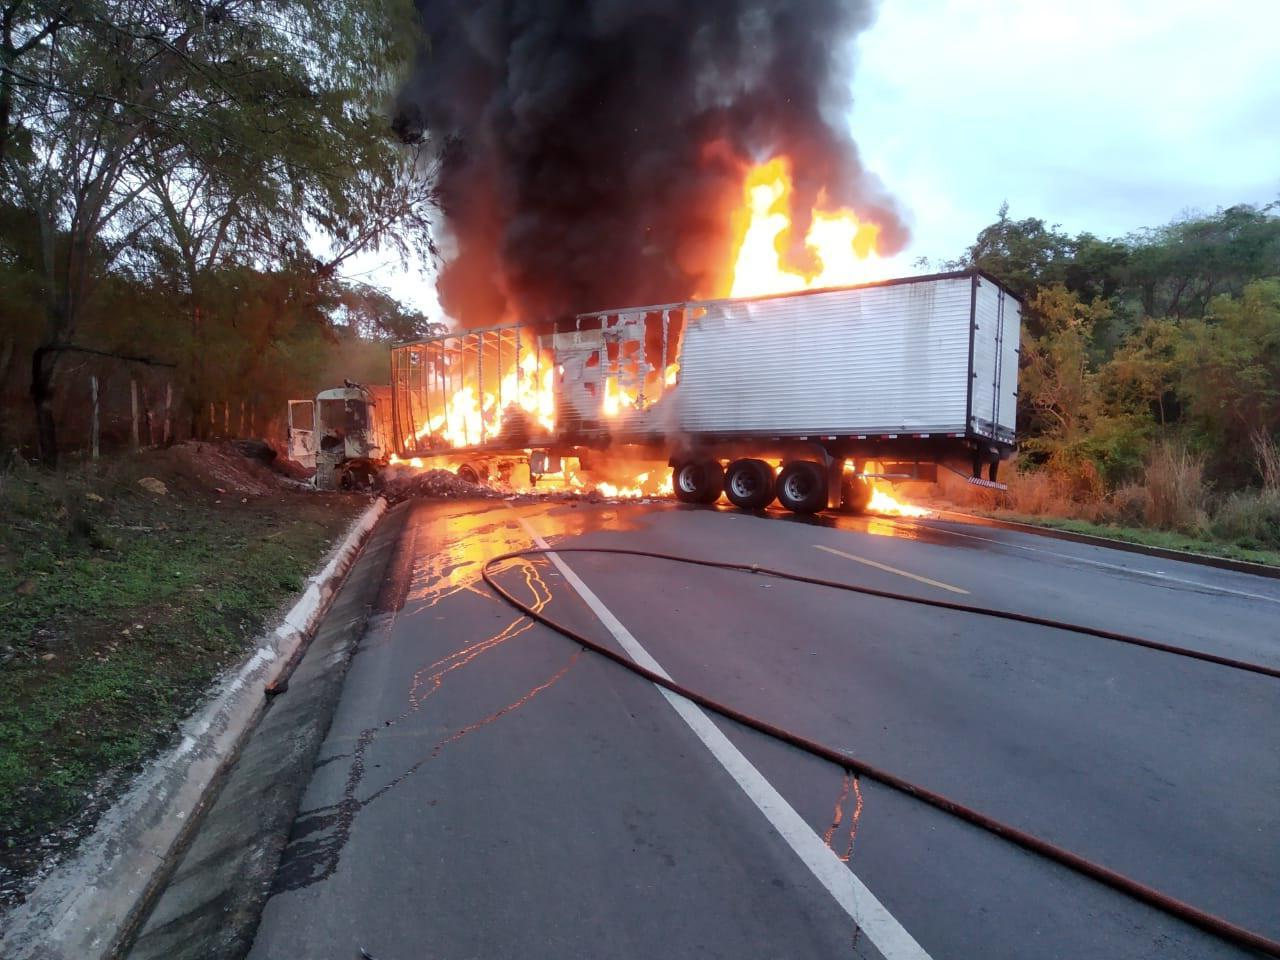Fire: (723, 164, 877, 301), (406, 354, 565, 448), (535, 458, 669, 499), (855, 464, 928, 517), (599, 377, 642, 419), (388, 454, 427, 469), (663, 360, 683, 389)
